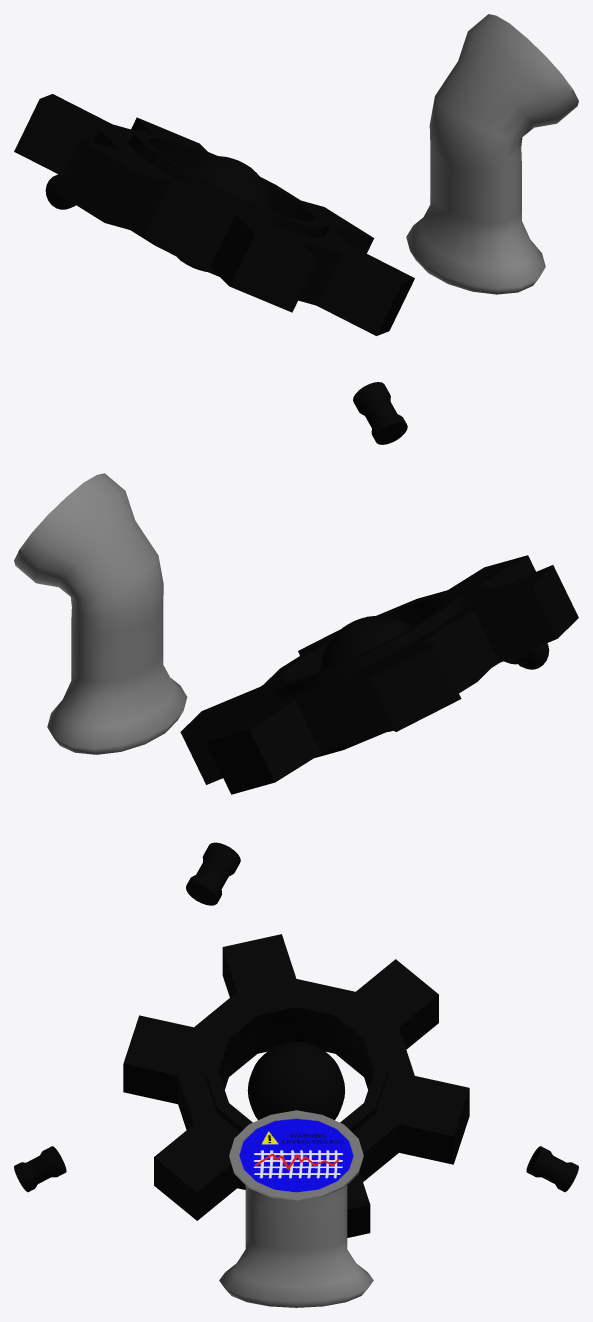
Rendered from machine.fbx.
3 renders of one model, top to bottom at view 1: azimuth 30°, elevation 25°; view 2: azimuth 150°, elevation 25°; view 3: azimuth 270°, elevation 25°, orthographic. The views are drawn at different scales.
Parts seen in each view (by area): view 1: pTorus1, pCylinder1, pSphere1, pCylinder2; view 2: pTorus1, pCylinder1, pSphere1, pCylinder3, pCylinder2; view 3: pTorus1, pCylinder1, pSphere1, pCylinder2, pCylinder3.
Part boxes in pixels (x1,y1,x2,y2): pTorus1: (14, 94, 414, 335); pCylinder1: (406, 14, 578, 294); pSphere1: (177, 156, 273, 271); pCylinder2: (353, 382, 407, 444); pTorus1: (180, 555, 578, 794); pCylinder1: (14, 473, 187, 754); pSphere1: (320, 616, 411, 731); pCylinder3: (186, 842, 240, 905); pCylinder2: (504, 643, 549, 669); pTorus1: (123, 934, 469, 1237); pCylinder1: (219, 1110, 373, 1307); pSphere1: (247, 1042, 344, 1120); pCylinder2: (14, 1146, 66, 1192); pCylinder3: (526, 1146, 578, 1192).
Bounding box in the file's own units: 9.67 × 4.29 × 11.12.
2 materials, 2 textured.
